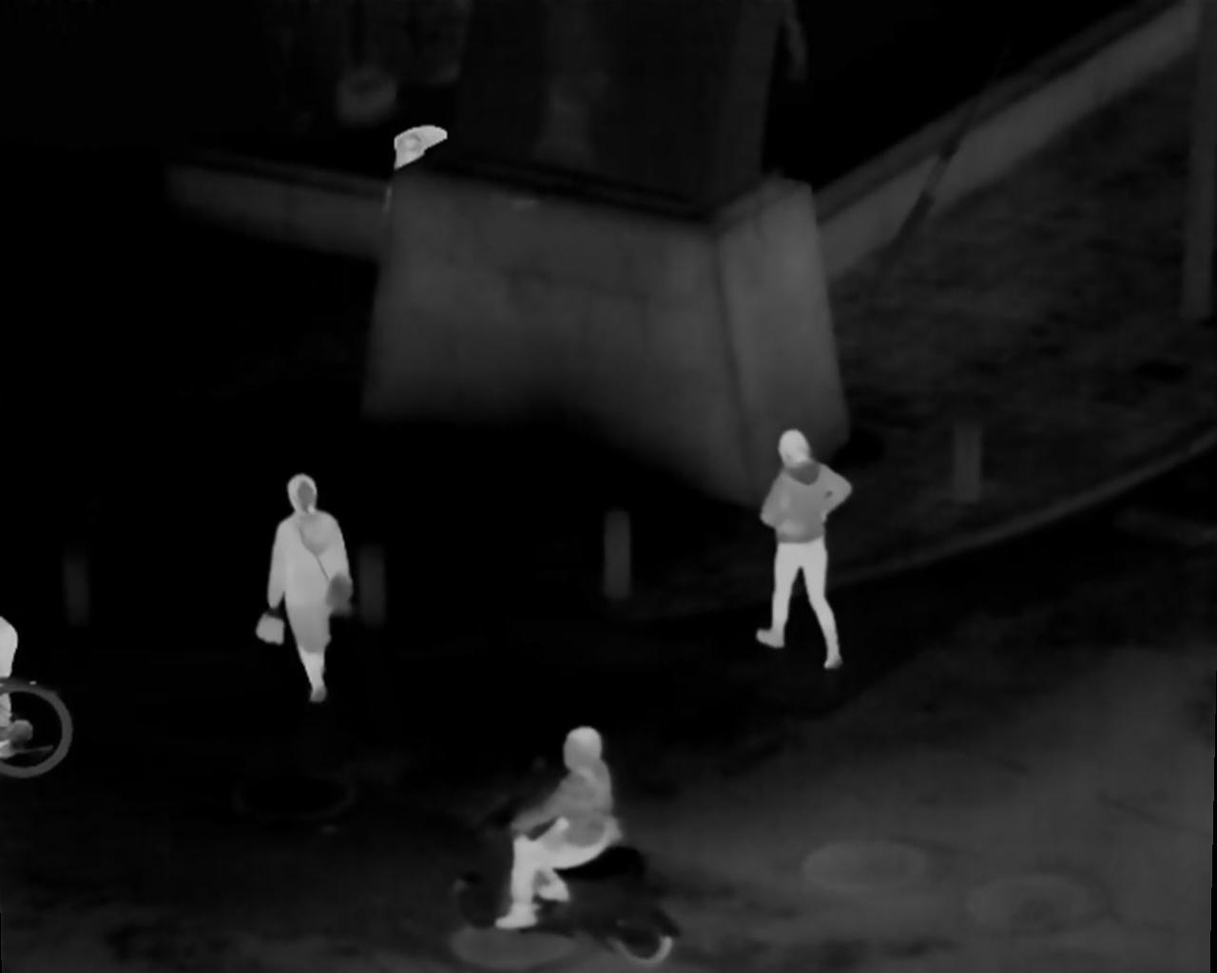person: (499, 711, 629, 914), (750, 432, 854, 668), (267, 469, 346, 689)
